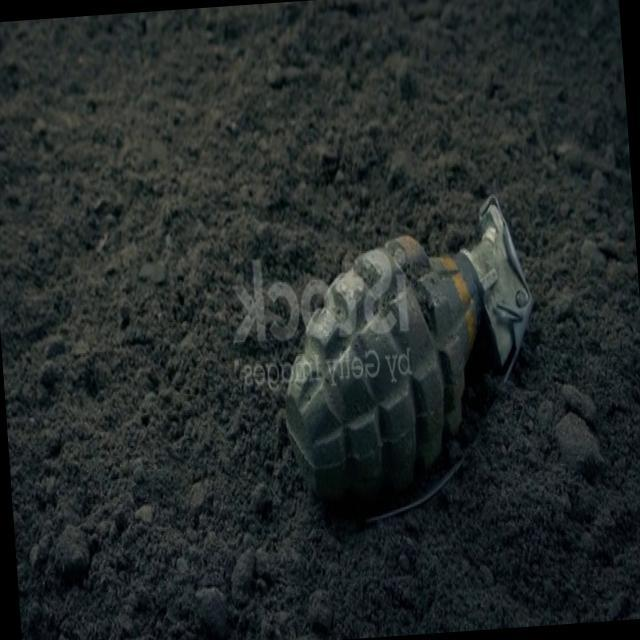grenade: (268, 198, 550, 532)
